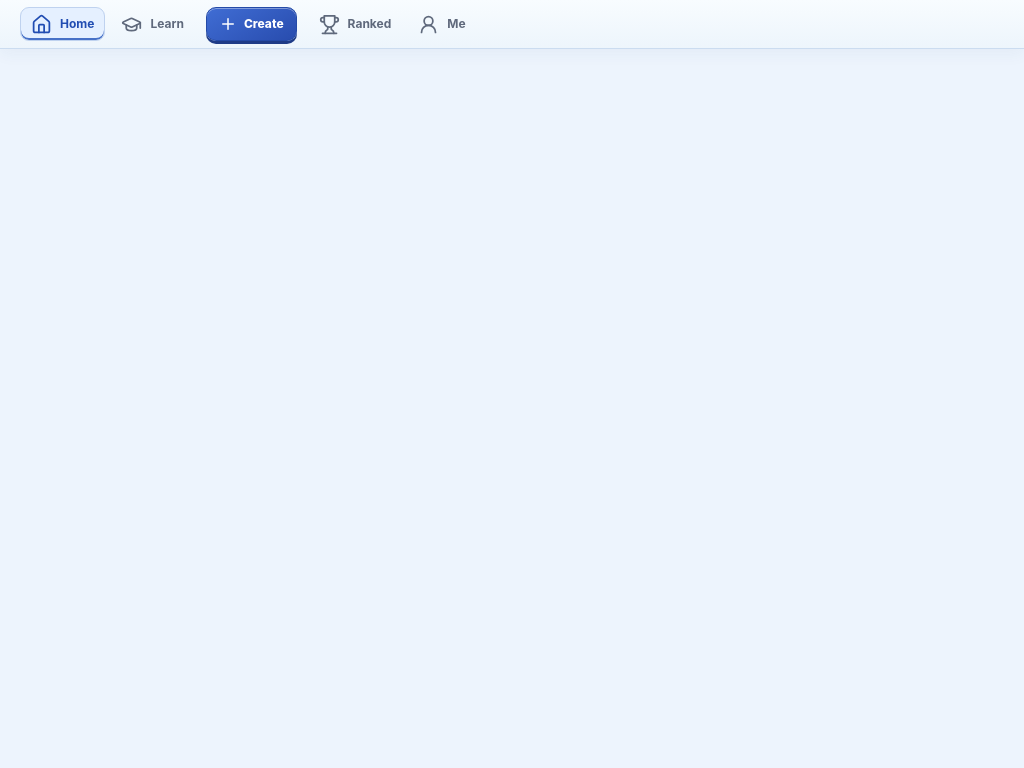
Scenario: the (+) Create action › closes with its close button
Click the link "Create": (251, 24) [206,7,297,41]
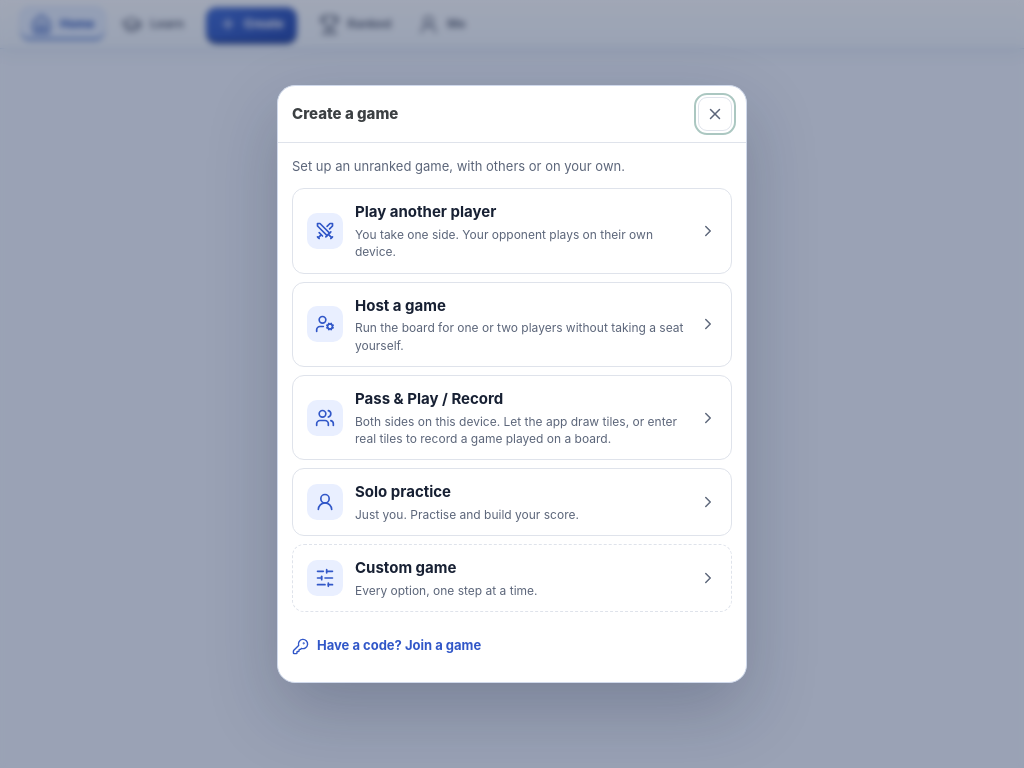
Click the button named "Close" in the row of "Create a game": (715, 114) [698,97,732,131]
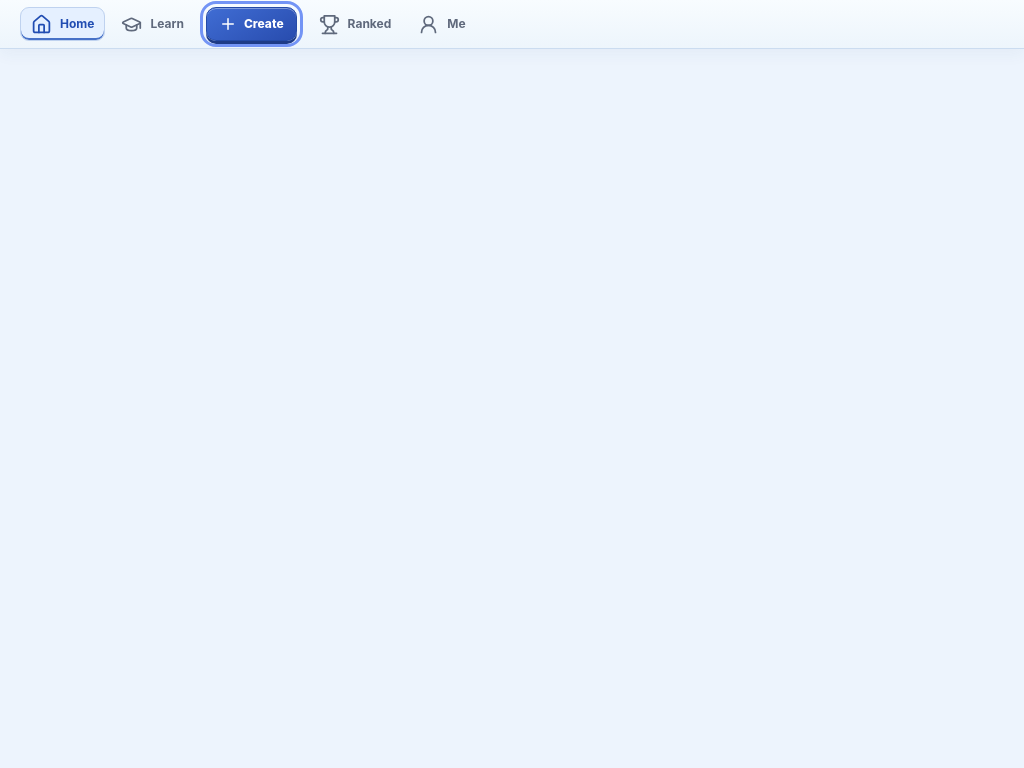
Now the dialog is gone
